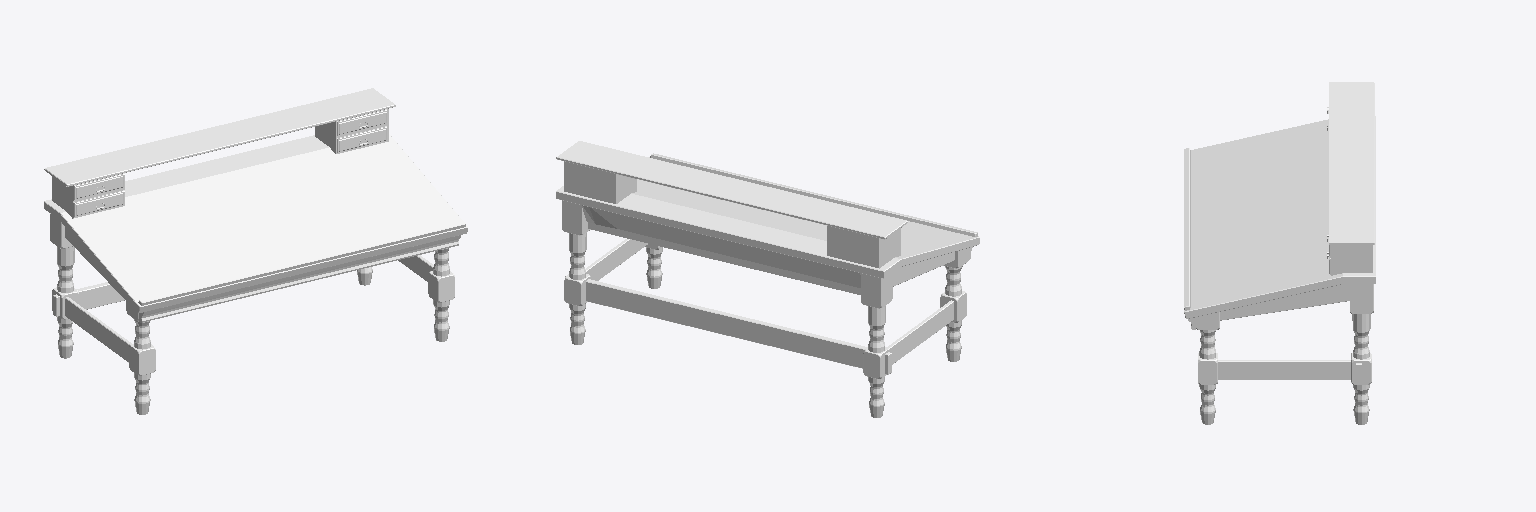
File: medieval_desk.obj
3 views of the same model, side by side, from view 1: azimuth 30°, elevation 25°; view 2: azimuth 150°, elevation 25°; view 3: azimuth 270°, elevation 25° (orthographic).
Visible parts, largest first — view 1: obj7, obj1, obj10, obj2, obj11, obj8, obj3, obj9, obj4; view 2: obj7, obj1, obj4, obj6, obj10, obj11, obj9, obj3, obj8, obj5; view 3: obj7, obj1, obj3, obj11, obj5, obj9, obj10, obj8.
Part boxes in pixels (bbox=[...]): obj7: bbox=[44, 134, 467, 312]; obj1: bbox=[44, 88, 395, 186]; obj10: bbox=[52, 109, 388, 218]; obj2: bbox=[139, 235, 460, 322]; obj11: bbox=[50, 214, 454, 375]; obj8: bbox=[133, 248, 449, 414]; obj3: bbox=[65, 255, 433, 362]; obj9: bbox=[57, 246, 372, 358]; obj4: bbox=[53, 282, 124, 316]; obj7: bbox=[556, 153, 979, 278]; obj1: bbox=[556, 141, 907, 239]; obj4: bbox=[565, 274, 891, 374]; obj6: bbox=[582, 205, 860, 294]; obj10: bbox=[564, 161, 900, 268]; obj11: bbox=[562, 200, 969, 378]; obj9: bbox=[569, 233, 885, 417]; obj3: bbox=[585, 239, 953, 364]; obj8: bbox=[646, 247, 962, 361]; obj5: bbox=[893, 252, 954, 286]; obj7: bbox=[1184, 116, 1375, 318]; obj1: bbox=[1329, 82, 1374, 244]; obj3: bbox=[1218, 360, 1350, 379]; obj11: bbox=[1196, 284, 1373, 384]; obj5: bbox=[1220, 284, 1349, 320]; obj9: bbox=[1352, 314, 1370, 424]; obj10: bbox=[1329, 245, 1372, 275]; obj8: bbox=[1199, 330, 1215, 424].
Bounding box in the file's own units: 2 × 1.09 × 1.01.